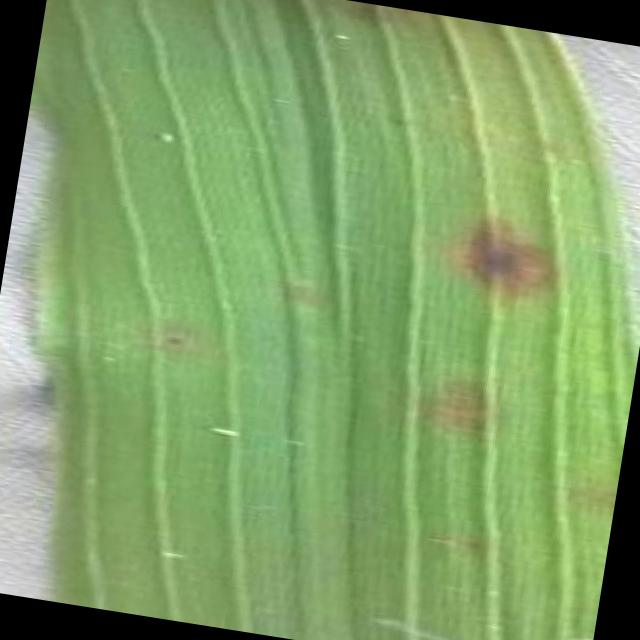Rice_Brownspot: (432, 195, 576, 312), (416, 370, 516, 456), (148, 318, 194, 356), (374, 100, 418, 136), (456, 530, 491, 558)
